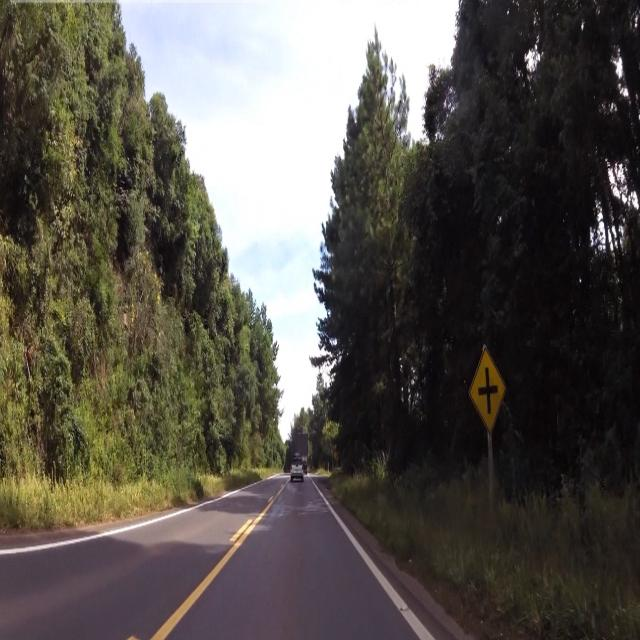A-6: (464, 348, 518, 428)
